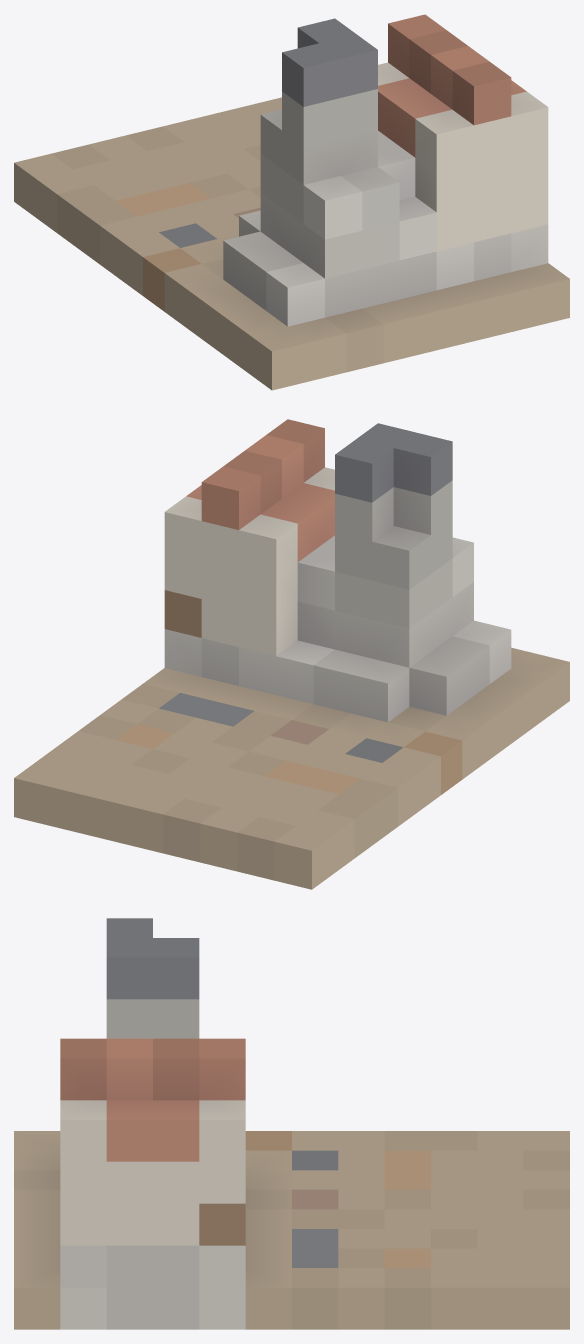
Rendered from smelter.lite.glb.
The picture shows the model from 3 angles, top to bottom: view 1: azimuth 30°, elevation 25°; view 2: azimuth 150°, elevation 25°; view 3: azimuth 270°, elevation 25°; orthographic projection. The views are drawn at different scales.
Parts seen in each view (by area): view 1: smelter; view 2: smelter; view 3: smelter.
Part boxes in pixels (x1=…): smelter: x1=14, y1=14, x2=569, y2=390; smelter: x1=14, y1=419, x2=569, y2=889; smelter: x1=14, y1=918, x2=569, y2=1329.
Size of the model in its own units: 4 by 3.5 by 6.
